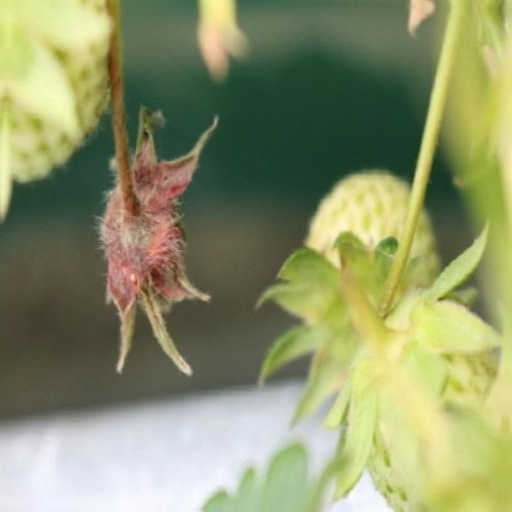Gray Mold: (97, 111, 214, 381)
